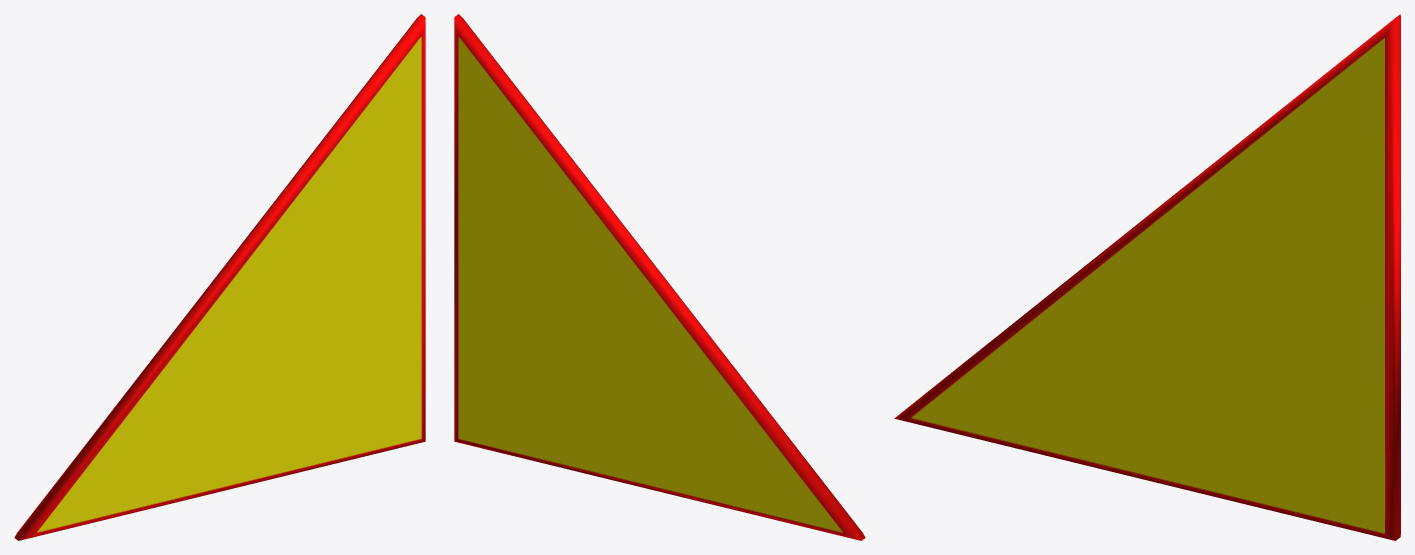
The model's file is triangle.glb.
3 renders of one model, left to right at view 1: azimuth 30°, elevation 25°; view 2: azimuth 150°, elevation 25°; view 3: azimuth 330°, elevation 25°, orthographic. The views are drawn at different scales.
Parts seen in each view (by area): view 1: Triangle_1; view 2: Triangle_1; view 3: Triangle_1.
Part boxes in pixels (x1,y1,x2,y2): Triangle_1: [14, 14, 425, 540]; Triangle_1: [454, 14, 865, 540]; Triangle_1: [894, 14, 1400, 540].
Bounding box in the file's own units: 8.42 × 8.4 × 0.313.
1 material, 1 textured.
